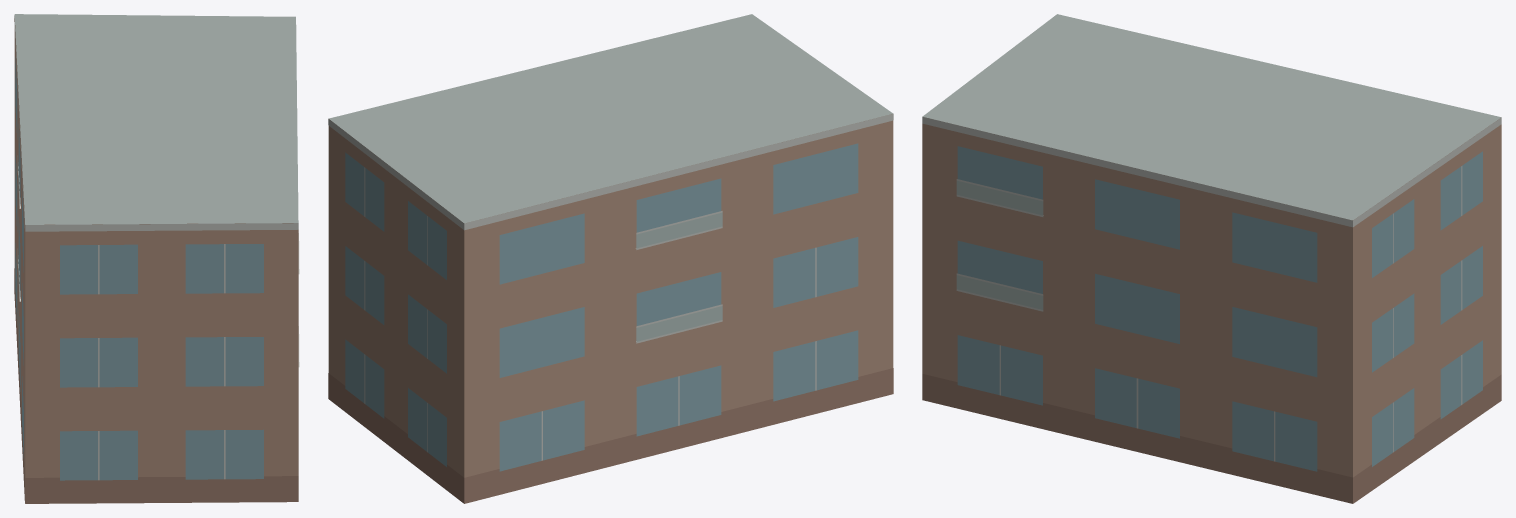
Rendered from survey-upis-32877610.glb.
3 renders of one model, left to right at view 1: azimuth 30°, elevation 25°; view 2: azimuth 150°, elevation 25°; view 3: azimuth 270°, elevation 25°, orthographic.
Visible parts, largest first — view 1: survey-upis-32877610.tmp; view 2: survey-upis-32877610.tmp; view 3: survey-upis-32877610.tmp.
Boxes of the visible parts, box(x1,y1,x2,y2) form: survey-upis-32877610.tmp: box(14, 14, 299, 503); survey-upis-32877610.tmp: box(328, 14, 893, 503); survey-upis-32877610.tmp: box(922, 14, 1501, 503).
Bounding box in the file's own units: 15.63 × 10 × 18.54.
